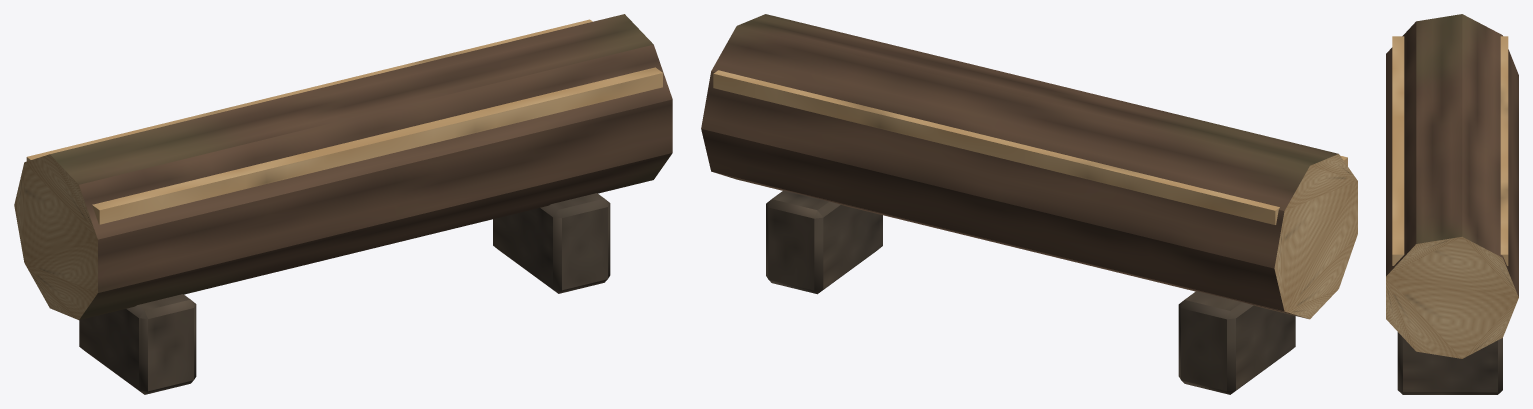
The model's file is SM_Camp_LogBench.fbx.
3 renders of one model, left to right at view 1: azimuth 30°, elevation 25°; view 2: azimuth 150°, elevation 25°; view 3: azimuth 270°, elevation 25°, orthographic. The views are drawn at different scales.
Parts seen in each view (by area): view 1: SM_Camp_LogBench; view 2: SM_Camp_LogBench; view 3: SM_Camp_LogBench.
Part boxes in pixels (x1,y1,x2,y2): SM_Camp_LogBench: [14, 14, 672, 394]; SM_Camp_LogBench: [701, 14, 1357, 394]; SM_Camp_LogBench: [1386, 14, 1518, 394].
Size of the model in its own units: 5 by 1.89 by 1.26.
Materials: 1 (1 with a texture image).
